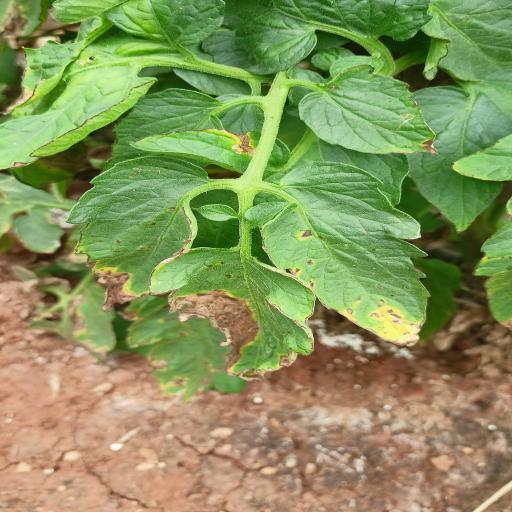Early Blight: (240, 159, 433, 350), (141, 247, 320, 382), (62, 153, 203, 310), (296, 62, 442, 156), (126, 127, 296, 177)
Leaf_Miner: (396, 110, 417, 132)
